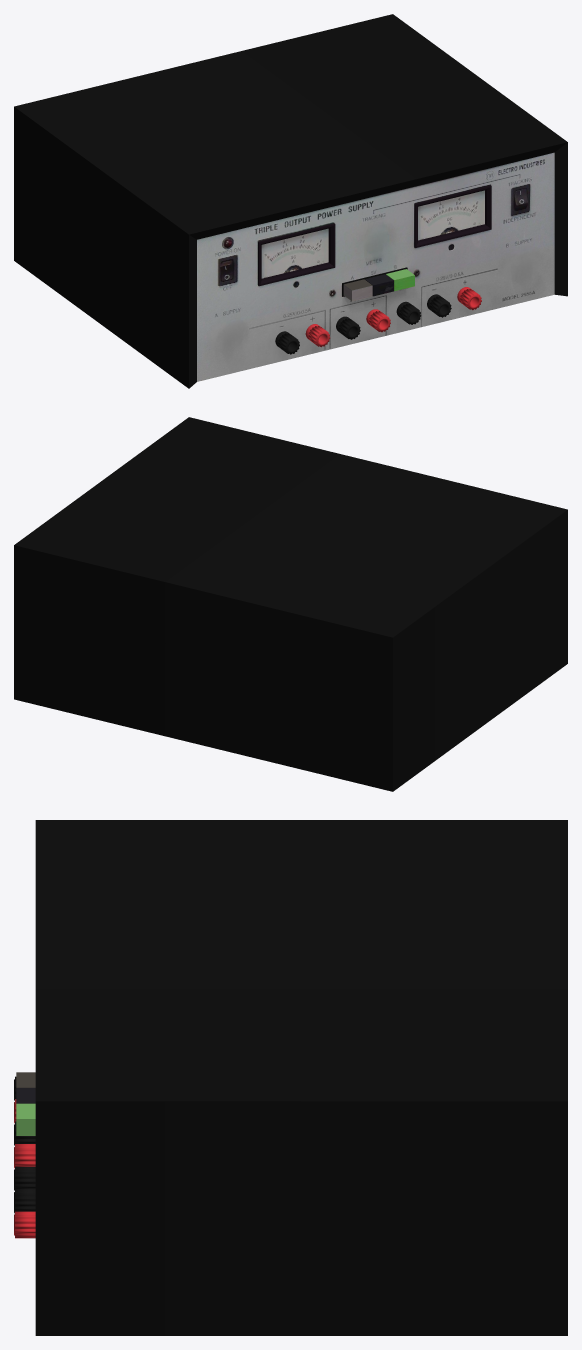
File: tripledcpowersupply.glb
3 renders of one model, top to bottom at view 1: azimuth 30°, elevation 25°; view 2: azimuth 150°, elevation 25°; view 3: azimuth 270°, elevation 25°, orthographic. The views are drawn at different scales.
Parts seen in each view (by area): view 1: powersupplybase; view 2: powersupplybase; view 3: powersupplybase.
Boxes of the visible parts, left/top/right/bottom form: powersupplybase: left=14, top=14, right=567, bottom=388; powersupplybase: left=14, top=417, right=567, bottom=791; powersupplybase: left=14, top=820, right=567, bottom=1335.
Bounding box in the file's own units: 2 × 0.7779 × 1.67.
1 material, 1 textured.
